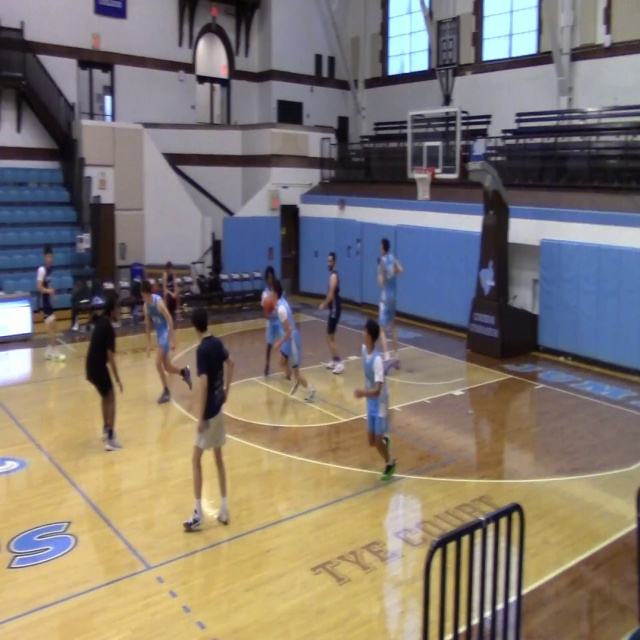Basketball: (261, 290, 277, 316), (57, 354, 66, 361)
